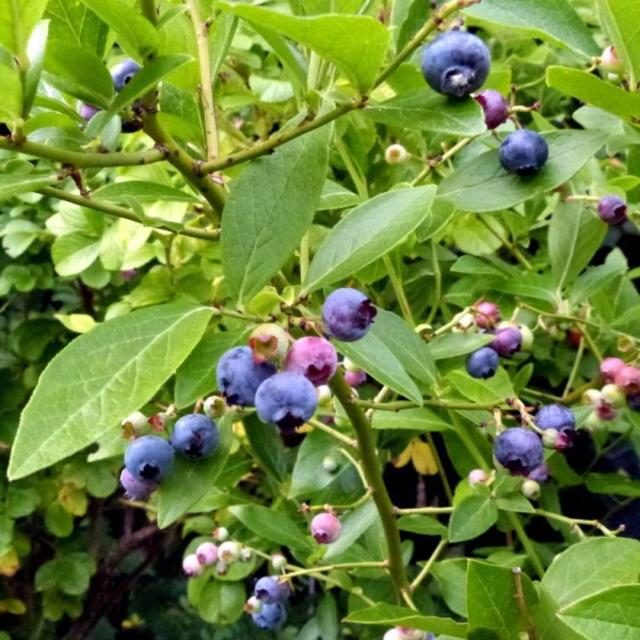BlueBerry - v1: (415, 30, 495, 105), (245, 367, 320, 438), (488, 120, 558, 188), (312, 281, 382, 348), (211, 344, 274, 408), (488, 415, 548, 476), (278, 331, 342, 388), (114, 434, 178, 486), (163, 406, 220, 463), (242, 314, 296, 370), (111, 459, 159, 508), (531, 390, 574, 438), (300, 504, 344, 550), (102, 53, 146, 95), (457, 345, 502, 386), (591, 190, 635, 231), (378, 129, 415, 171), (490, 320, 525, 360), (251, 570, 287, 606), (472, 298, 505, 334), (598, 379, 630, 414), (217, 536, 246, 570), (193, 535, 221, 570), (615, 363, 640, 402), (596, 354, 626, 384), (578, 379, 605, 412), (181, 548, 208, 581), (252, 596, 281, 622)
